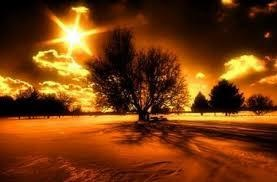fire: (0, 6, 113, 111), (178, 49, 277, 112)
